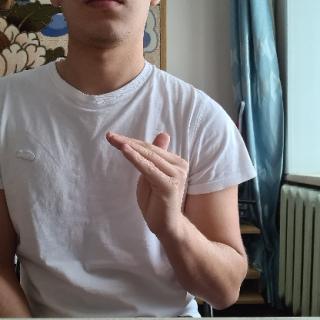KHAA: (101, 125, 195, 242)
